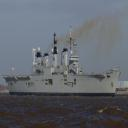Portanaves: (5, 24, 123, 100)
